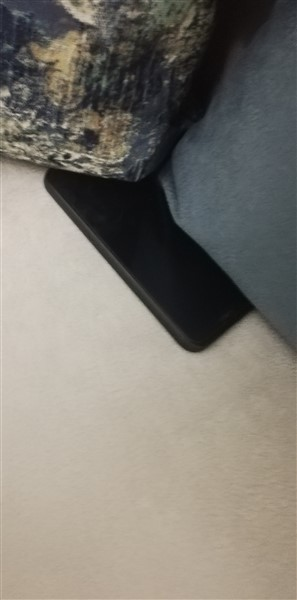telefon: (35, 154, 261, 359)
